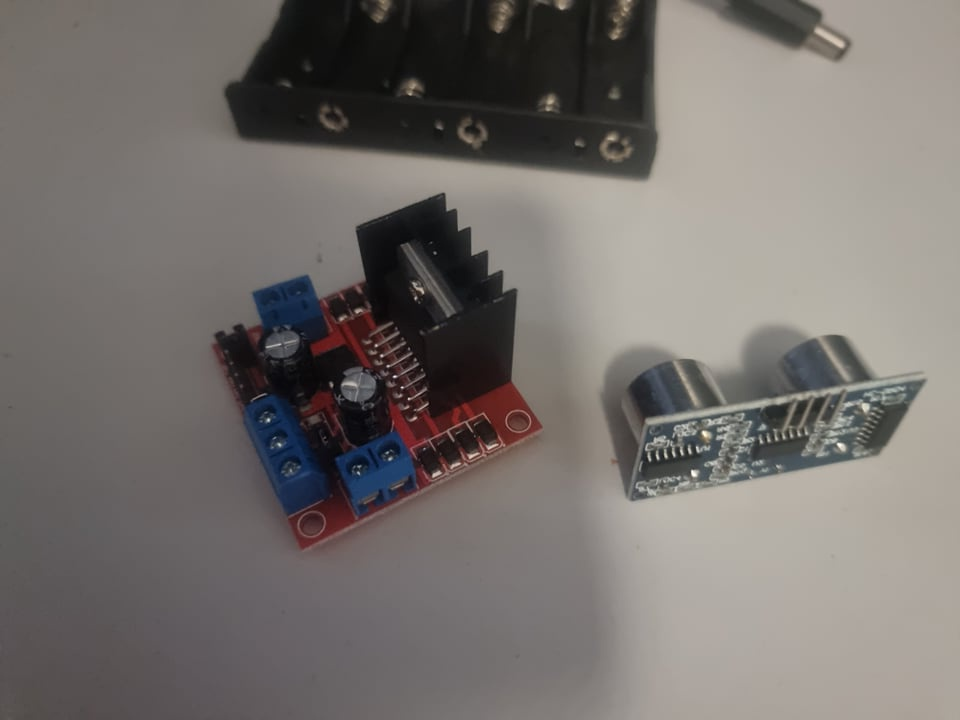BATTERY BOX: (226, 1, 665, 178)
MOTOR: (205, 192, 543, 554)
SENSOR: (619, 329, 928, 509)
